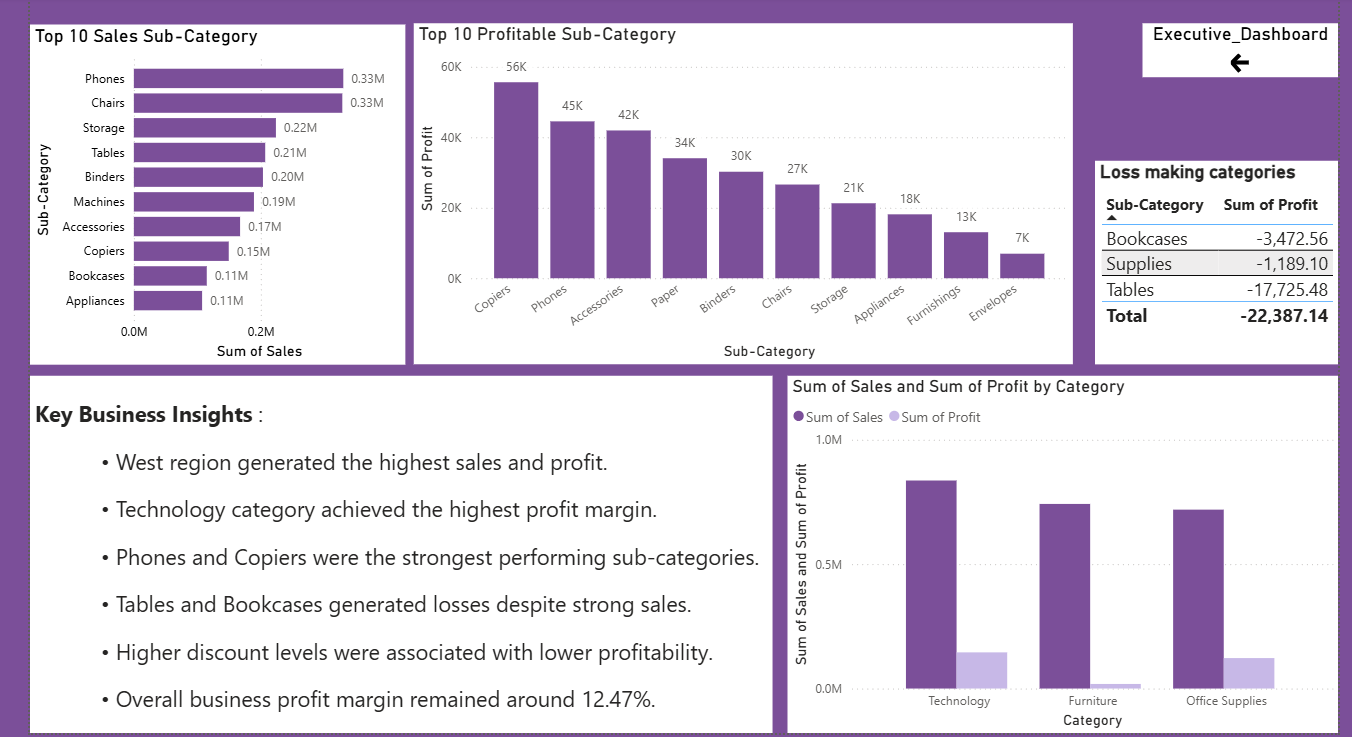

The page's visual inventory and layout, read from the dashboard file:
{"tool":"powerbi","page":{"name":"business_insights","canvas":[1280,720],"ordinal":1},"visuals":[{"type":"clusteredBarChart","title":"Top 10 Sales Sub-Category","fields":{"Y":["Sum(SampleSuperstore.Sales)"],"Category":["SampleSuperstore.Sub-Category"]},"box":[0,26.9,366.8,332.6],"z":0},{"type":"lineClusteredColumnComboChart","title":"Top 10 Profitable Sub-Category","fields":{"Category":["SampleSuperstore.Sub-Category"],"Y":["Sum(SampleSuperstore.Profit)"]},"box":[376,26.1,644.9,333.4],"z":1},{"type":"tableEx","title":"Loss making categories","fields":{"Values":["SampleSuperstore.Sub-Category","Sum(SampleSuperstore.Profit)"]},"box":[1041.9,160.2,238.5,199.3],"z":2},{"type":"textbox","box":[0,370.5,726.4,349.7],"z":3},{"type":"actionButton","title":"Executive_Dashboard","box":[1088.3,25.7,192,52.6],"z":4},{"type":"clusteredColumnChart","fields":{"Category":["SampleSuperstore.Category"],"Y":["Sum(SampleSuperstore.Sales)","Sum(SampleSuperstore.Profit)"]},"box":[741,370.5,539.3,349.7],"z":5}]}

Visuals, with their boxes in screenshot pixels (x1, y1, x2, y2):
"Top 10 Sales Sub-Category" clusteredBarChart: rect(39, 27, 408, 362)
"Top 10 Profitable Sub-Category" lineClusteredColumnComboChart: rect(418, 26, 1068, 362)
"Loss making categories" tableEx: rect(1089, 161, 1329, 362)
textbox: rect(39, 373, 771, 726)
"Executive_Dashboard" actionButton: rect(1136, 26, 1329, 79)
clusteredColumnChart - SampleSuperstore.Category x Sum(SampleSuperstore.Sales): rect(786, 373, 1329, 726)
